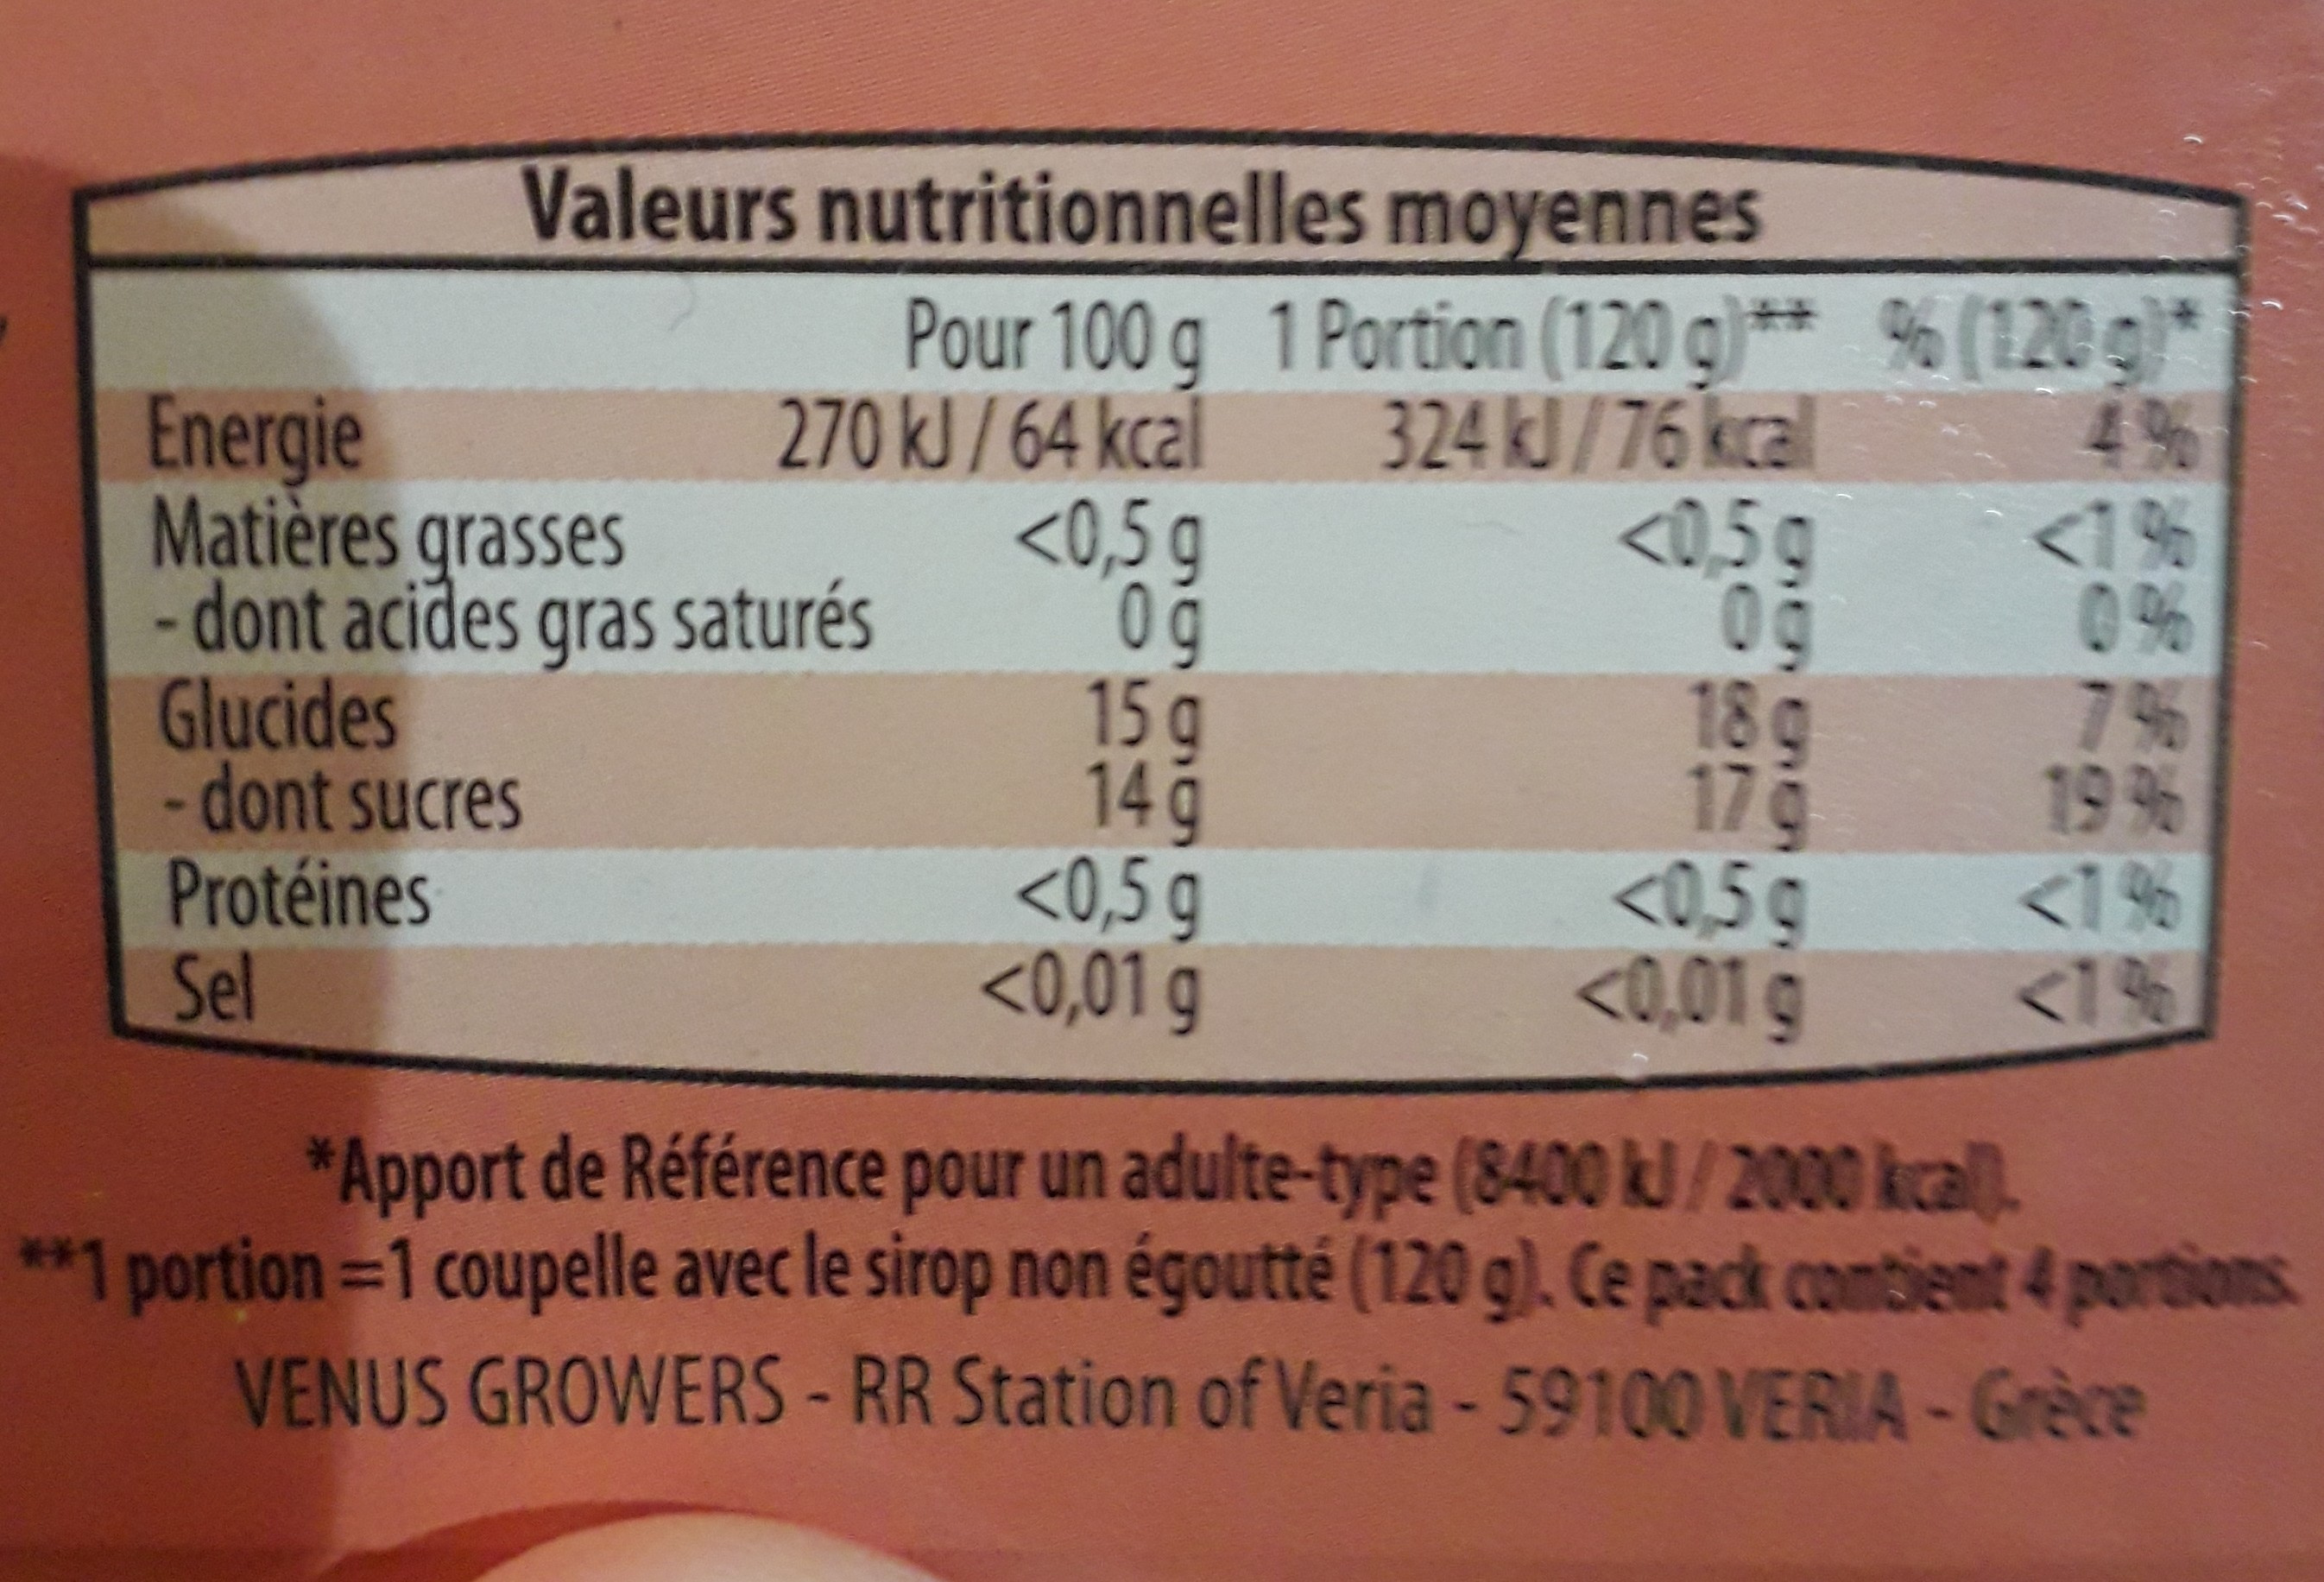column: (102, 383, 875, 1054), (1258, 263, 1846, 1061), (753, 268, 1237, 1059), (1860, 270, 2222, 1054)
table: (90, 244, 2209, 1045)
